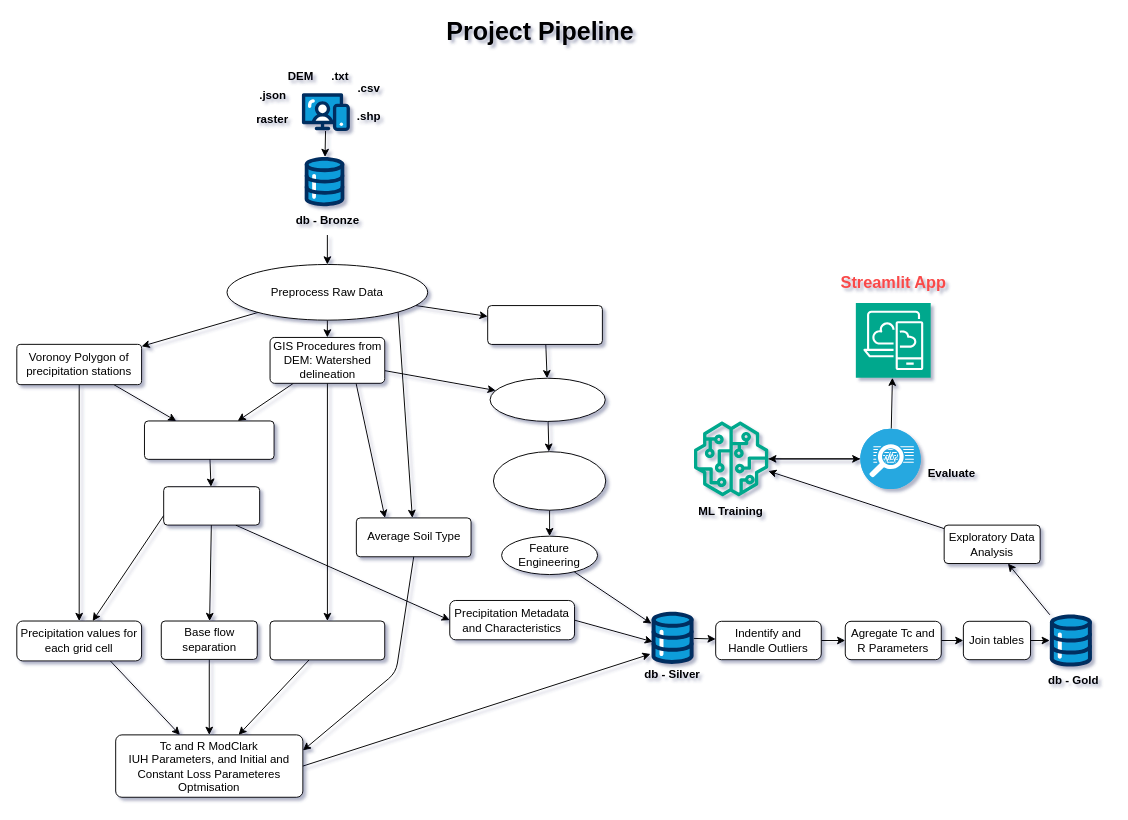
This 1128x820 diagram has some shape labels left out. Each missing label, with the centre of its shape:
"Average ppt data within the waterhsed" goes at (209,439).
"Distance of each grid to catchment outlet" goes at (327,640).
"Land Cover Data" goes at (544,324).
"Storm Event Selection" goes at (211,505).
"Vectorization" goes at (547,399).
"Watershed Characteristics" goes at (549,480).
